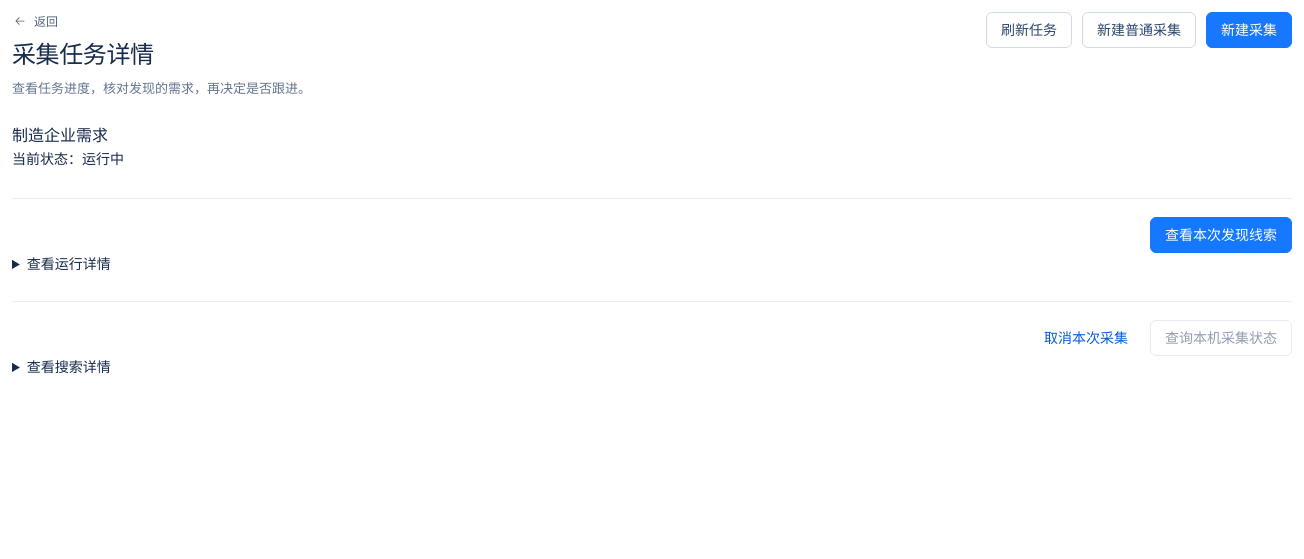
Test case: keeps task status and actions up front while hiding server bookkeeping
Expected: the button "取消本次采集" is shown, [1034,320,1138,356]
Expected: the text "服务端停止登记：" is not shown
Click the heading "查看运行详情" at (69, 264), box [27,255,111,272]
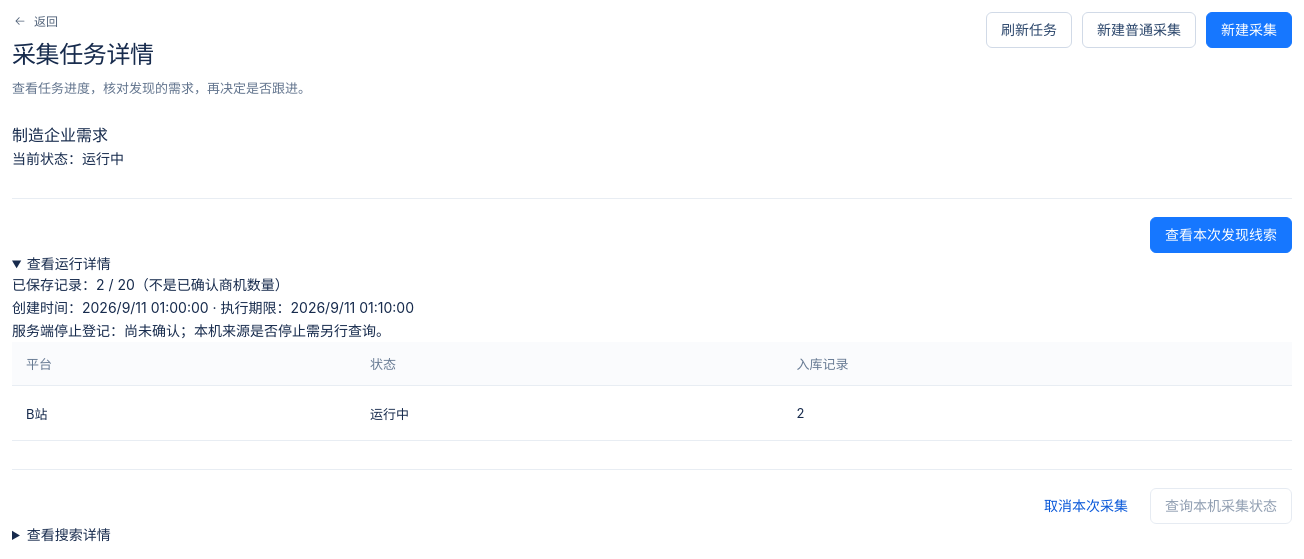
Result: the text "服务端停止登记：尚未确认；本机来源是否停止需另行查询。" is shown at [12,322,390,339]
